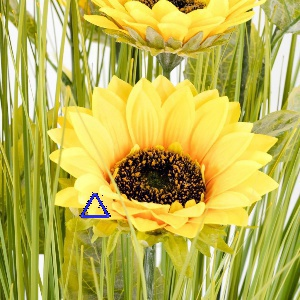triangle: (77, 189, 112, 223)
